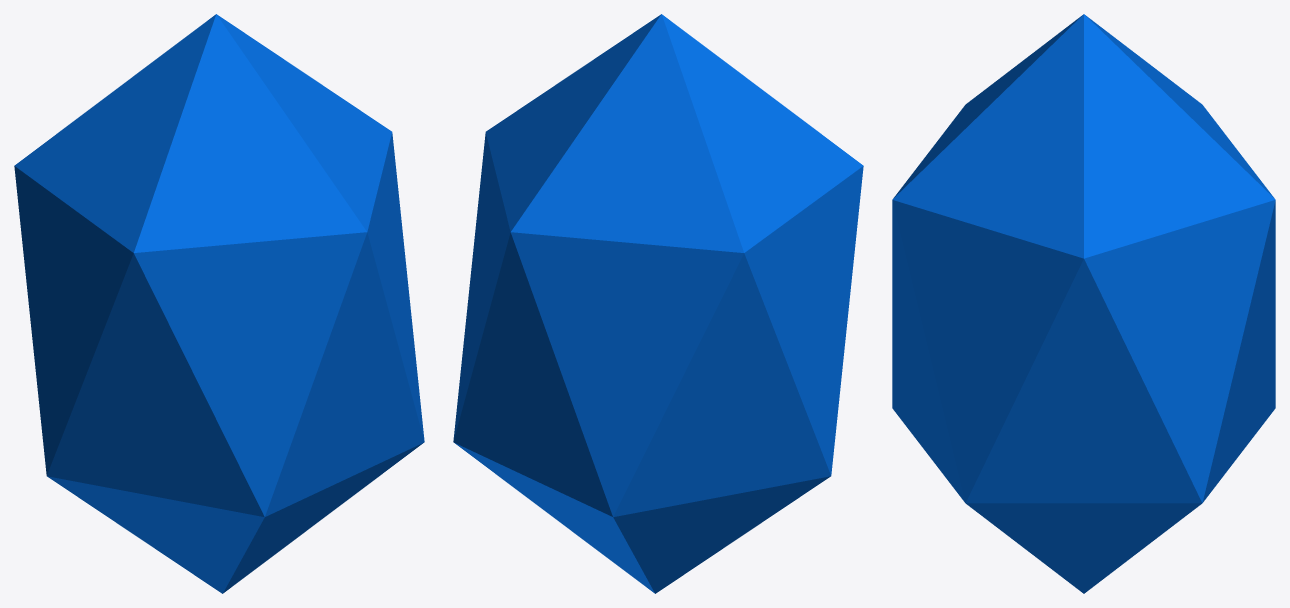
The model's file is Kryształ.fbx.
3 views of the same model, side by side, from view 1: azimuth 30°, elevation 25°; view 2: azimuth 150°, elevation 25°; view 3: azimuth 270°, elevation 25° (orthographic).
Visible parts, largest first — view 1: Icosphere.002; view 2: Icosphere.002; view 3: Icosphere.002.
Part boxes in pixels (x1,y1,x2,y2): Icosphere.002: (14,14,424,593); Icosphere.002: (453,14,863,593); Icosphere.002: (892,14,1275,593).
Size of the model in its own units: 0.2855 by 0.4591 by 0.2765.
